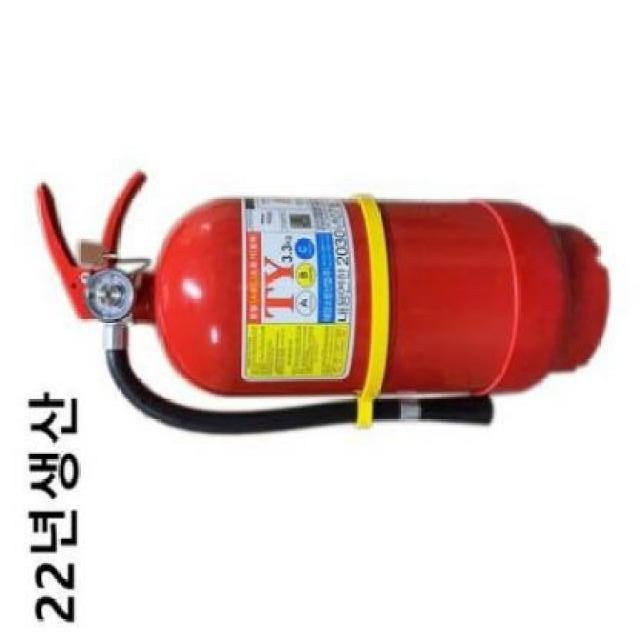fire extinguisher: (34, 171, 611, 437)
